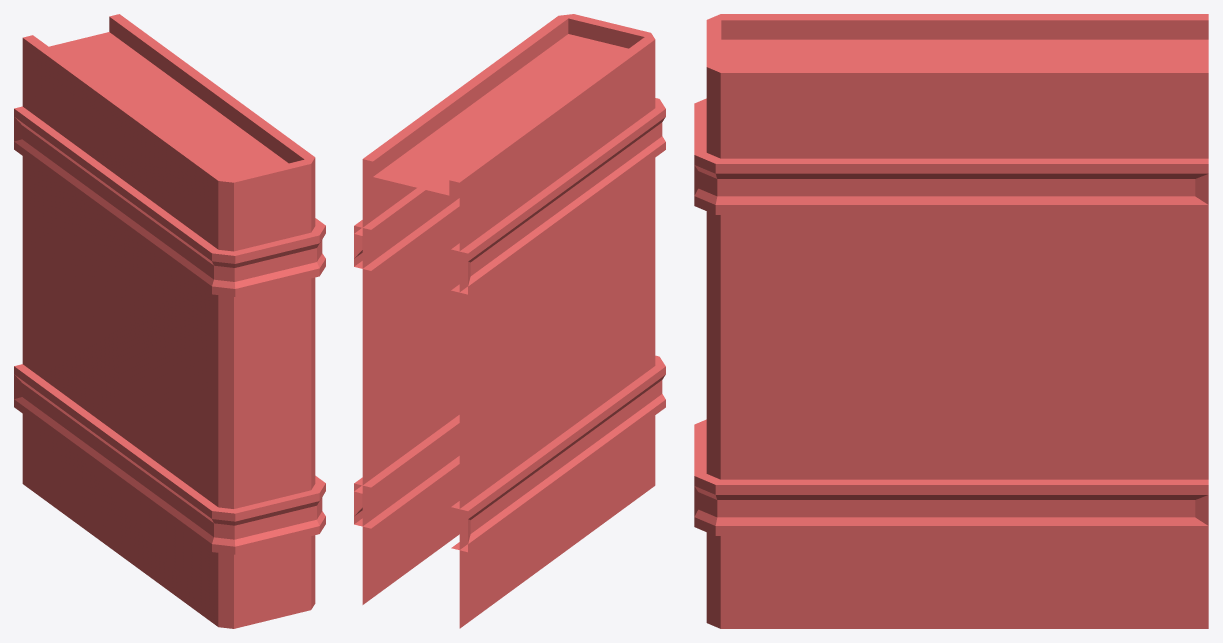
Rendered from Livre_7.fbx.
3 renders of one model, left to right at view 1: azimuth 30°, elevation 25°; view 2: azimuth 150°, elevation 25°; view 3: azimuth 270°, elevation 25°, orthographic. The views are drawn at different scales.
Parts seen in each view (by area): view 1: Livre001; view 2: Livre001; view 3: Livre001.
Part boxes in pixels (left/top/right/bottom): Livre001: left=14, top=14, right=325, bottom=628; Livre001: left=354, top=14, right=665, bottom=628; Livre001: left=694, top=14, right=1208, bottom=628.
Size of the model in its own units: 2 by 7.5 by 6.29.
